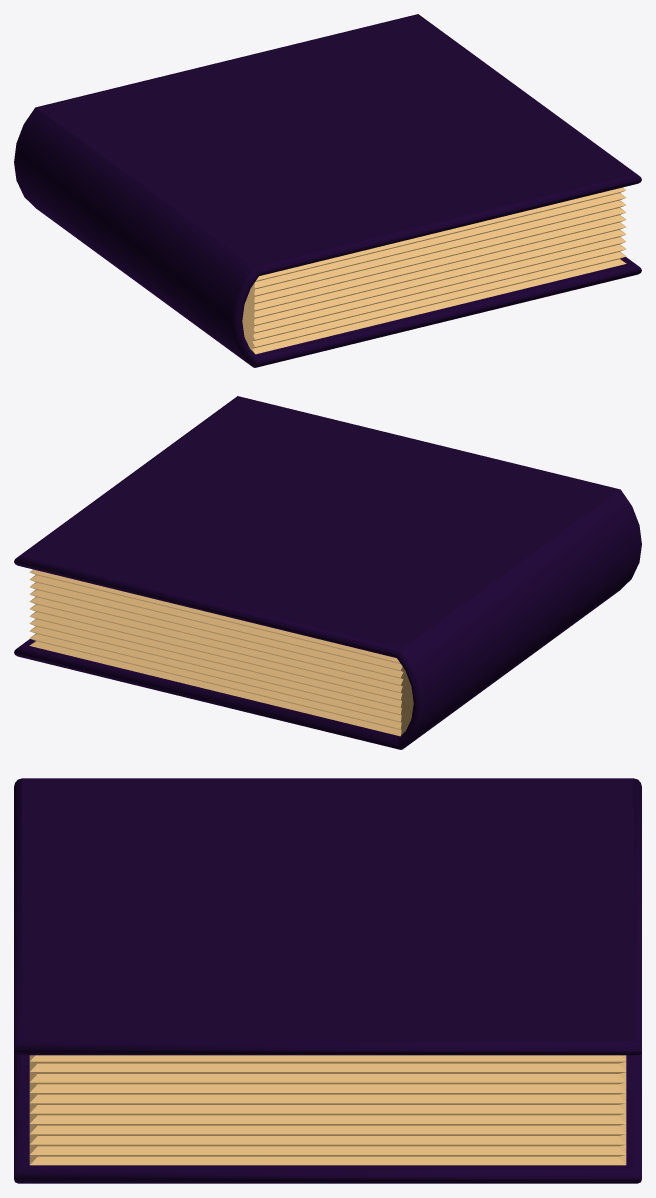
File: Book.fbx
3 views of the same model, one above another, from view 1: azimuth 30°, elevation 25°; view 2: azimuth 150°, elevation 25°; view 3: azimuth 270°, elevation 25° (orthographic). The views are drawn at different scales.
Visible parts, largest first — view 1: Cube; view 2: Cube; view 3: Cube.
Boxes of the visible parts, <box> form: Cube: <box>14,14,641,367</box>; Cube: <box>14,396,641,749</box>; Cube: <box>14,778,641,1183</box>.
Bounding box in the file's own units: 42.25 × 10 × 40.
